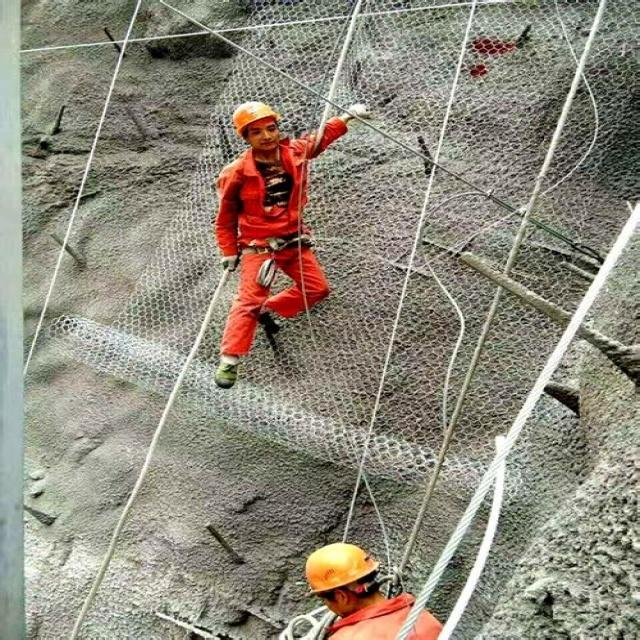helmet: (228, 132, 284, 200)
